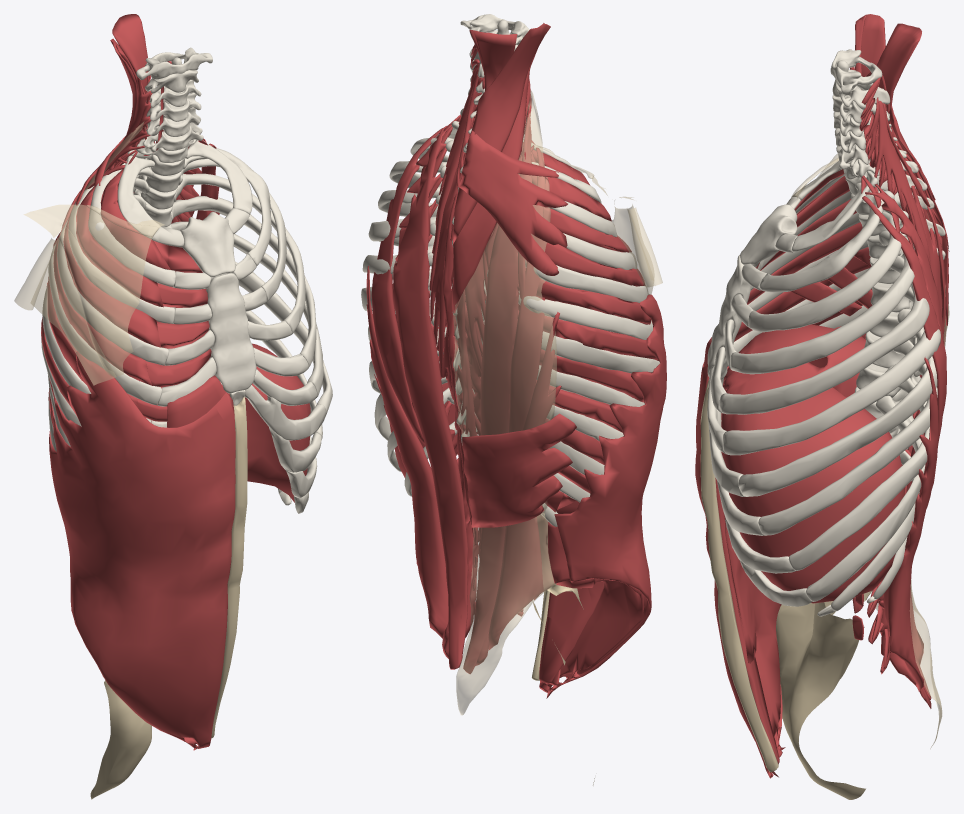
The model's file is trunk.glb.
3 views of the same model, side by side, from view 1: azimuth 30°, elevation 25°; view 2: azimuth 150°, elevation 25°; view 3: azimuth 270°, elevation 25° (orthographic). The views are drawn at different scales.
Parts seen in each view (by area): view 1: External abdominal oblique muscle.r, Clavipectoral fascia.r, Costal cartilage, External intercostal muscles.r, Internal intercostal muscles.r, Rib (4th), Body of sternum, Rib (5th), Rib (2nd), Diaphragm, Linea alba, Rib (3rd) (+19 smaller); view 2: Longissimus thoracis muscle.r, Thoracolumbar fascia (cervical and thoracic part).r, External abdominal oblique muscle.r, External intercostal muscles.r, Iliocostalis lumborum muscle.r, Thoracolumbar fascia (posterior layer).r, Serratus posterior inferior muscle.r, Iliocostalis thoracis muscle.r, Serratus posterior superior muscle.r, Splenius capitis muscle.r, Transverse abdominal muscle.r, Spinalis thoracis muscle.r (+26 smaller); view 3: Diaphragm, Iliopsoas fascia.r, Costal cartilage, Rib (6th), Rib (5th), Linea alba, Rib (7th), Rib (4th), Iliocostalis lumborum muscle.r, Transverse abdominal muscle.r, Innermost intercostal muscles.r, Rib (8th) (+36 smaller).
Boxes of the visible parts, box(x1,y1,x2,y2) form: External abdominal oblique muscle.r: box(49, 351, 235, 750); Clavipectoral fascia.r: box(14, 204, 164, 385); Costal cartilage: box(151, 208, 325, 513); External intercostal muscles.r: box(41, 169, 170, 426); Internal intercostal muscles.r: box(67, 200, 211, 421); Rib (4th): box(57, 173, 305, 365); Body of sternum: box(205, 273, 256, 393); Rib (5th): box(48, 196, 316, 405); Rib (2nd): box(88, 144, 271, 286); Diaphragm: box(151, 343, 310, 502); Linea alba: box(211, 396, 247, 738); Rib (3rd): box(68, 159, 286, 323); Longissimus thoracis muscle.r: box(393, 124, 534, 673); Thoracolumbar fascia (cervical and thoracic part).r: box(453, 90, 556, 513); External abdominal oblique muscle.r: box(539, 294, 666, 698); External intercostal muscles.r: box(518, 150, 657, 512); Iliocostalis lumborum muscle.r: box(366, 266, 561, 649); Thoracolumbar fascia (posterior layer).r: box(456, 513, 554, 715); Serratus posterior inferior muscle.r: box(462, 413, 576, 527); Iliocostalis thoracis muscle.r: box(371, 128, 546, 444); Serratus posterior superior muscle.r: box(459, 130, 567, 275); Splenius capitis muscle.r: box(453, 24, 550, 243); Transverse abdominal muscle.r: box(556, 578, 644, 679); Spinalis thoracis muscle.r: box(443, 190, 479, 542); Diaphragm: box(721, 324, 904, 603); Iliopsoas fascia.r: box(776, 591, 871, 799); Costal cartilage: box(707, 197, 876, 616); Rib (6th): box(723, 268, 940, 455); Rib (5th): box(719, 241, 929, 414); Linea alba: box(700, 380, 778, 772); Rib (7th): box(738, 300, 937, 496); Rib (4th): box(730, 213, 914, 374); Iliocostalis lumborum muscle.r: box(883, 357, 938, 691); Transverse abdominal muscle.r: box(721, 413, 781, 740); Innermost intercostal muscles.r: box(734, 169, 871, 341); Rib (8th): box(758, 340, 937, 535).
Bounding box in the file's own units: 0.3173 × 0.7959 × 0.2282.
